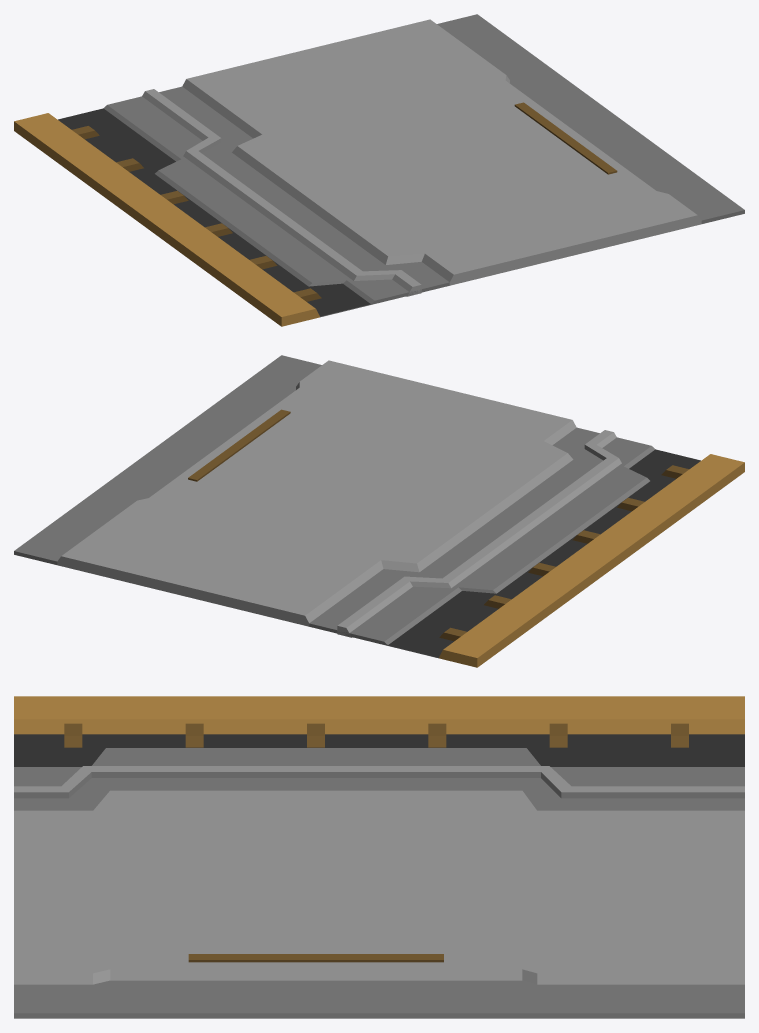
File: FloorTile_Side.glb
3 renders of one model, top to bottom at view 1: azimuth 30°, elevation 25°; view 2: azimuth 150°, elevation 25°; view 3: azimuth 270°, elevation 25°, orthographic. The views are drawn at different scales.
Visible parts, largest first — view 1: FloorTile_Side_Plane.046; view 2: FloorTile_Side_Plane.046; view 3: FloorTile_Side_Plane.046.
Boxes of the visible parts, box(x1,y1,x2,y2) form: FloorTile_Side_Plane.046: box(14, 14, 744, 326); FloorTile_Side_Plane.046: box(14, 355, 744, 667); FloorTile_Side_Plane.046: box(14, 696, 744, 1018).
Size of the model in its own units: 2 by 0.0685 by 2.
